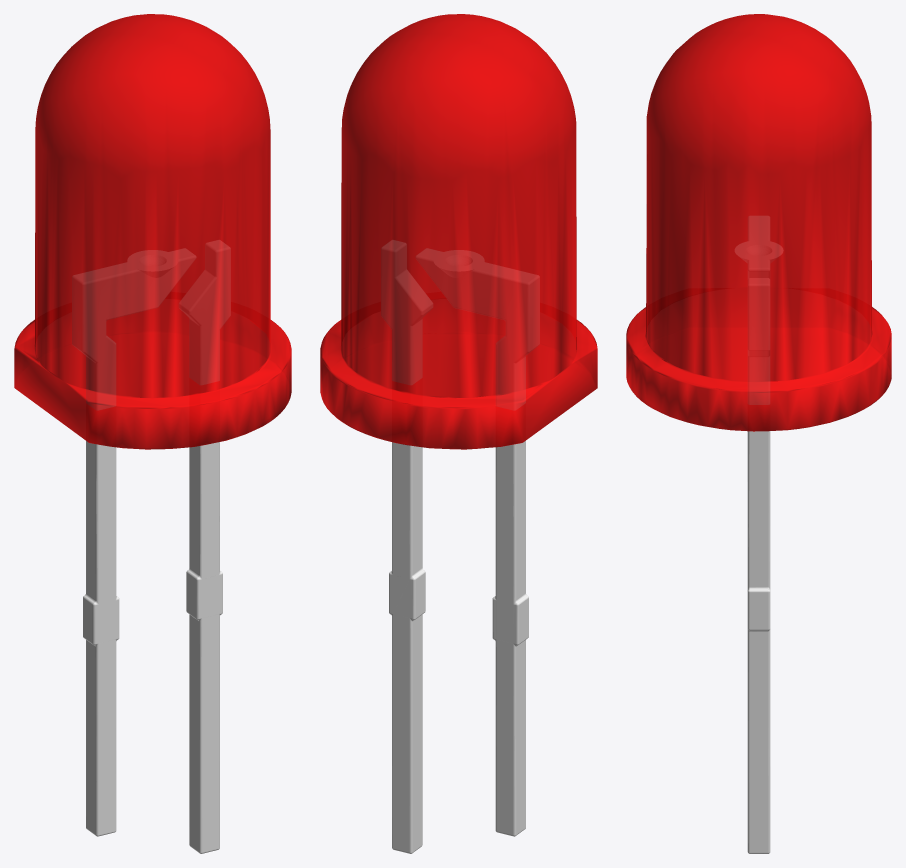
Rendered from led.glb.
3 views of the same model, side by side, from view 1: azimuth 30°, elevation 25°; view 2: azimuth 150°, elevation 25°; view 3: azimuth 270°, elevation 25° (orthographic). The views are drawn at different scales.
Parts seen in each view (by area): view 1: vidro-material.003, aluminio-material.003; view 2: vidro-material.003, aluminio-material.003; view 3: vidro-material.003, aluminio-material.003.
Part boxes in pixels (x1,y1,x2,y2): vidro-material.003: (14, 14, 291, 449); aluminio-material.003: (72, 240, 230, 853); vidro-material.003: (320, 14, 597, 449); aluminio-material.003: (381, 240, 539, 853); vidro-material.003: (626, 14, 891, 431); aluminio-material.003: (735, 216, 782, 853).
Bounding box in the file's own units: 0.0055 × 0.0198 × 0.00595.
